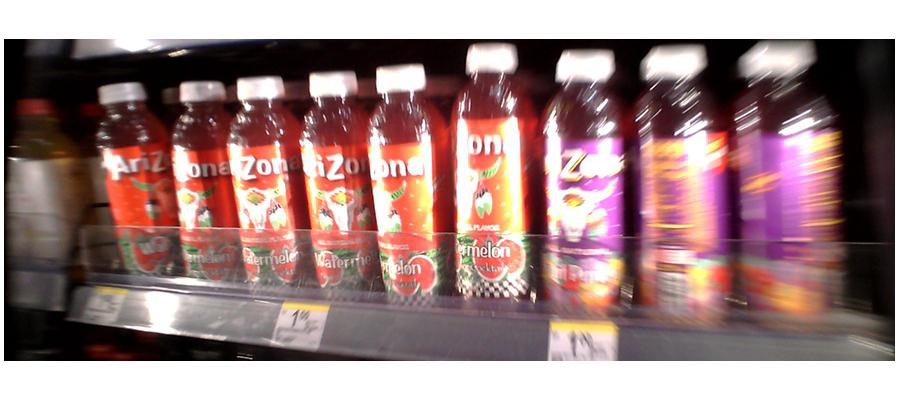bottle: (742, 52, 845, 337), (448, 45, 536, 305), (640, 64, 723, 336), (543, 66, 623, 325), (368, 68, 444, 304), (300, 74, 371, 297), (97, 80, 173, 280), (231, 74, 298, 294), (170, 76, 233, 287)
